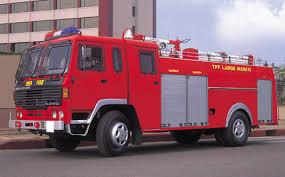Emergency-Vehicles: (15, 25, 282, 149)
